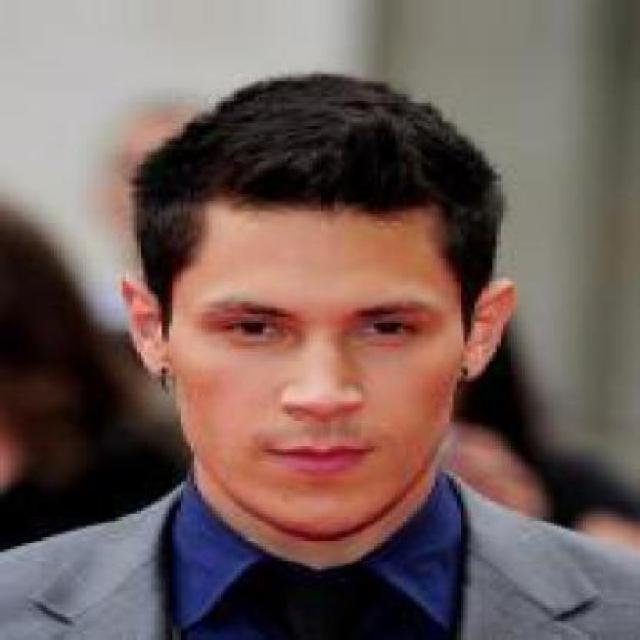closed-mouth: (252, 437, 388, 480)
